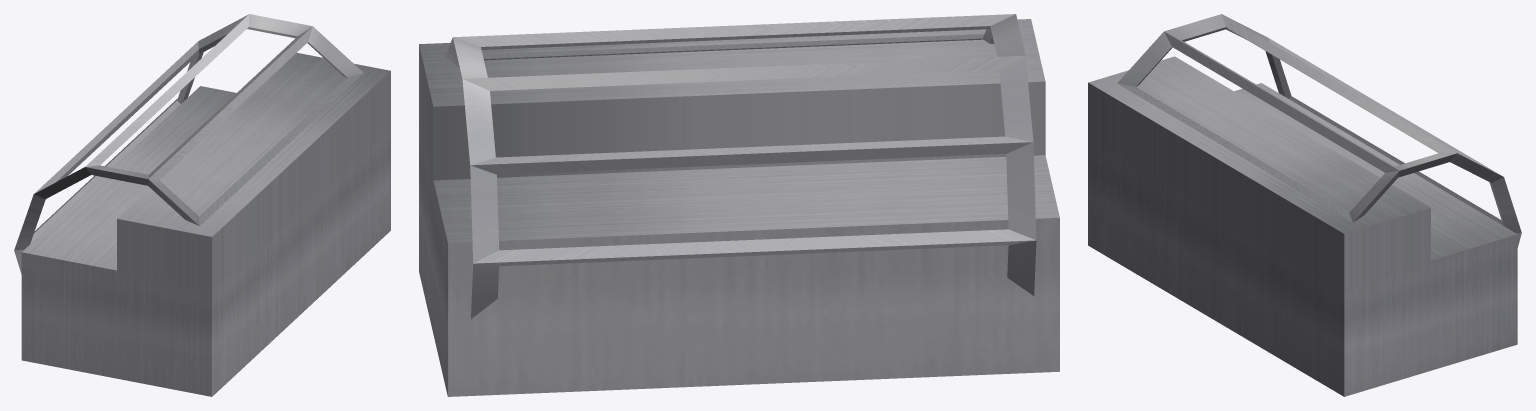
File: FundacionFortabat.gltf
The picture shows the model from 3 angles, left to right: view 1: azimuth 30°, elevation 25°; view 2: azimuth 150°, elevation 25°; view 3: azimuth 270°, elevation 25°; orthographic projection. The views are drawn at different scales.
Visible parts, largest first — view 1: FundacionFortabat; view 2: FundacionFortabat; view 3: FundacionFortabat.
Boxes of the visible parts, x1,y1,x2,y2 form: FundacionFortabat: (14,14,390,396); FundacionFortabat: (419,14,1059,396); FundacionFortabat: (1088,14,1521,396).
Size of the model in its own units: 1.18 by 0.5416 by 1.06.
1 material, 1 textured.
